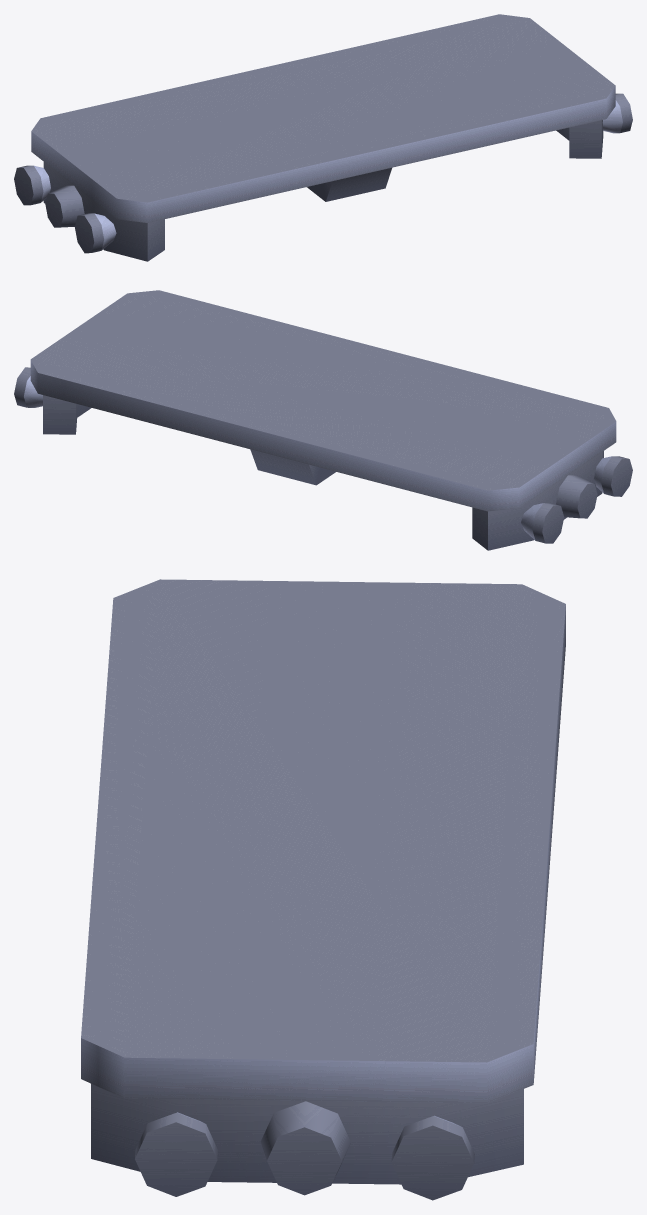
Rendered from train-carriage-container-blue_lev2.glb.
3 renders of one model, top to bottom at view 1: azimuth 30°, elevation 25°; view 2: azimuth 150°, elevation 25°; view 3: azimuth 270°, elevation 25°, orthographic. The views are drawn at different scales.
Parts seen in each view (by area): view 1: train-carriage-container-blue_lev2; view 2: train-carriage-container-blue_lev2; view 3: train-carriage-container-blue_lev2.
Part boxes in pixels (x1,y1,x2,y2): train-carriage-container-blue_lev2: (14,14,632,261); train-carriage-container-blue_lev2: (14,290,632,550); train-carriage-container-blue_lev2: (81,579,565,1200).
Bounding box in the file's own units: 2.72 × 0.3 × 1.07.
1 material, 1 textured.
